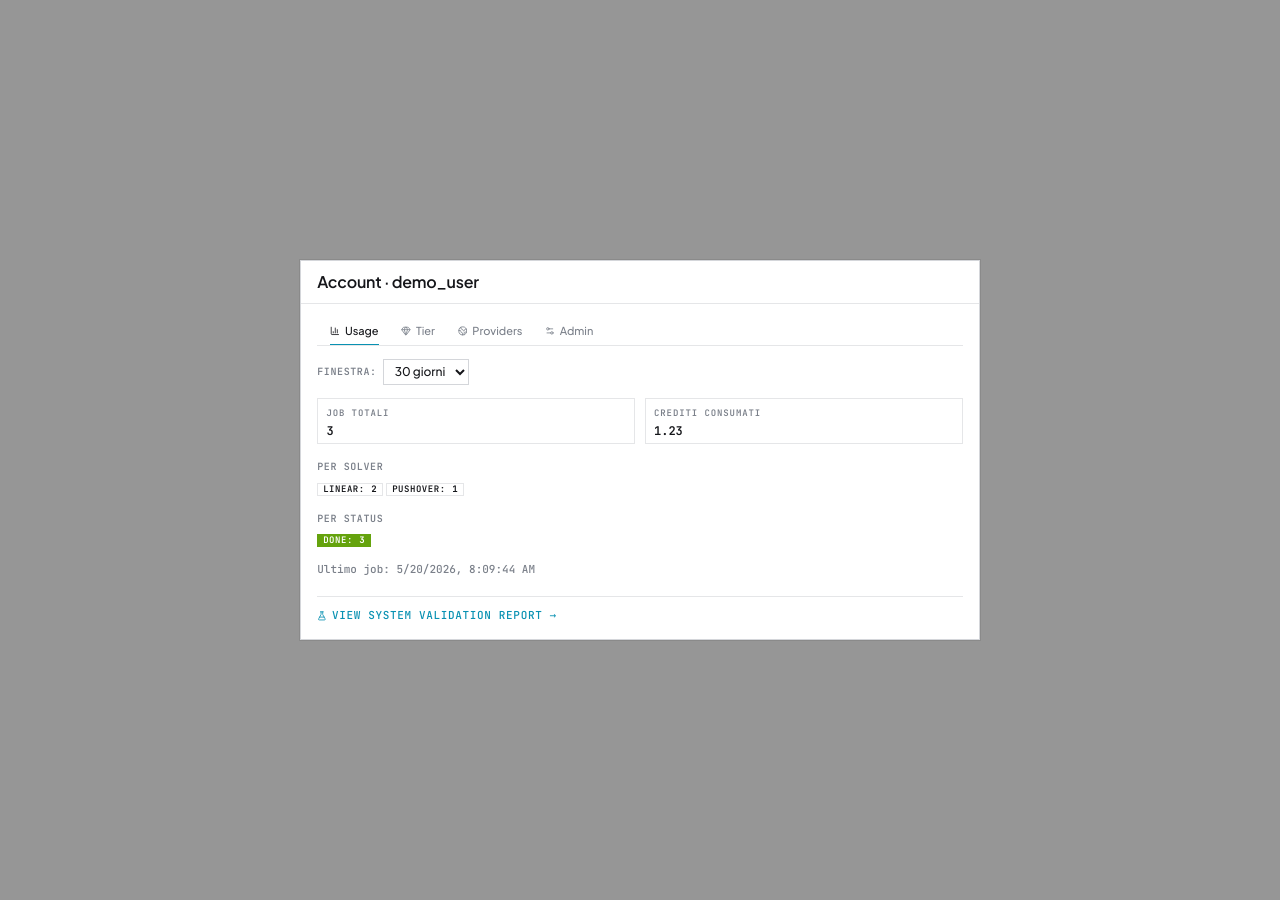
AccountDialog › renders Providers tab with summary rows (alpha.9)
This screenshot has width=1280, height=900.
Click the tab "Providers".
click(490, 331)  # box [448, 317, 532, 345]
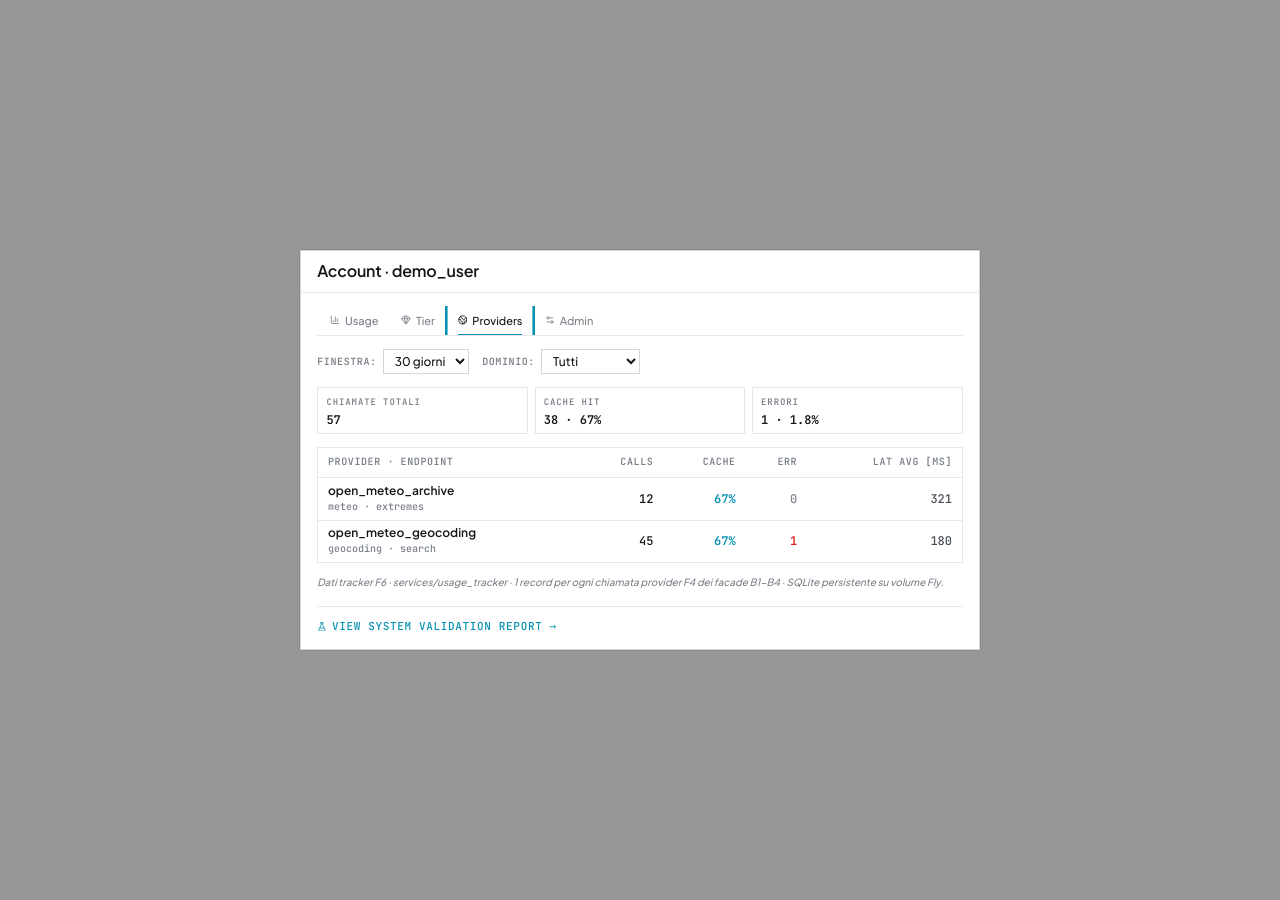
Result: the element with test id "providers-tab" is shown at [317, 348, 963, 590]
Result: the text "57" is shown at [326, 412, 341, 428]
Result: the text "open_meteo_archive" is shown at [328, 483, 454, 498]
